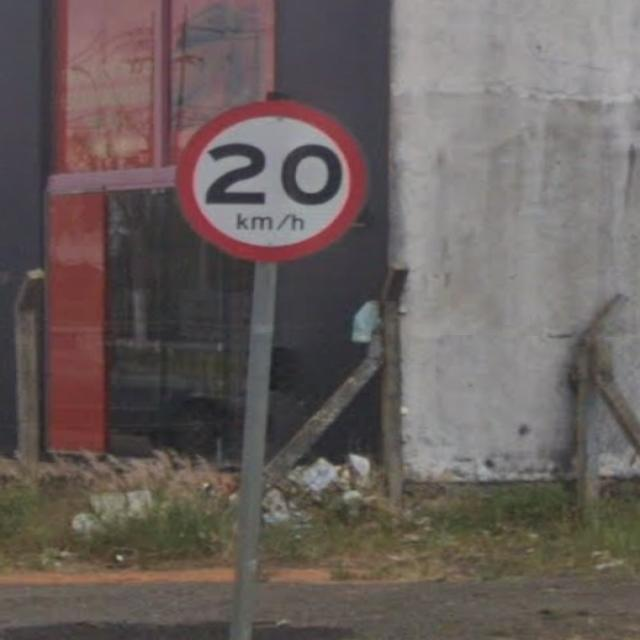speed limit: (156, 76, 400, 287)
